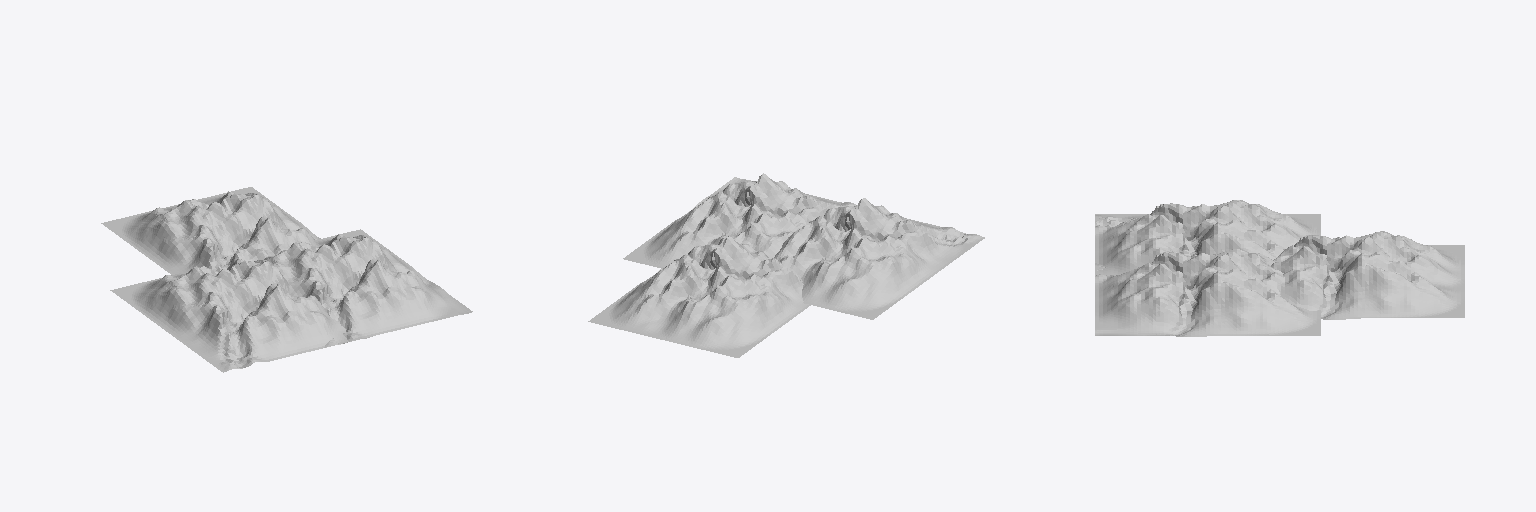
Rendered from moun_more.obj.
The picture shows the model from 3 angles: view 1: azimuth 30°, elevation 25°; view 2: azimuth 150°, elevation 25°; view 3: azimuth 270°, elevation 25°; orthographic projection.
Visible parts, largest first — view 1: Landscape.002; view 2: Landscape.002; view 3: Landscape.002.
Part boxes in pixels (x1,y1,x2,y2): Landscape.002: (101, 187, 472, 372); Landscape.002: (588, 173, 984, 357); Landscape.002: (1095, 200, 1464, 336).
Bounding box in the file's own units: 10.76 × 1.92 × 13.74.